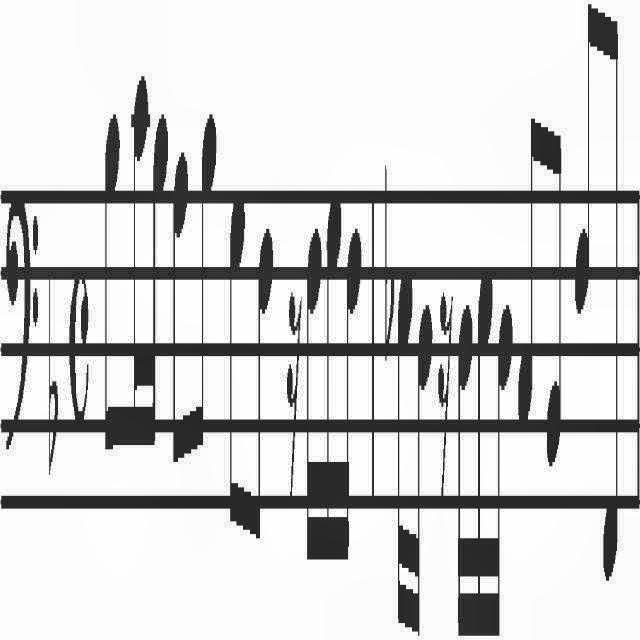Bemol: (377, 146, 395, 378), (44, 254, 60, 483)
Eighth-note: (600, 17, 624, 615), (223, 166, 244, 586), (251, 211, 273, 577), (541, 111, 563, 465), (197, 101, 219, 452), (572, 0, 592, 360), (102, 87, 120, 477), (170, 138, 190, 486), (518, 95, 538, 438)
Sixteenth-note: (322, 161, 343, 563), (128, 54, 148, 472), (304, 198, 324, 584), (474, 250, 494, 634), (496, 276, 516, 640), (395, 254, 413, 638), (345, 198, 363, 578), (414, 287, 434, 629), (150, 86, 167, 478), (456, 279, 472, 640)
